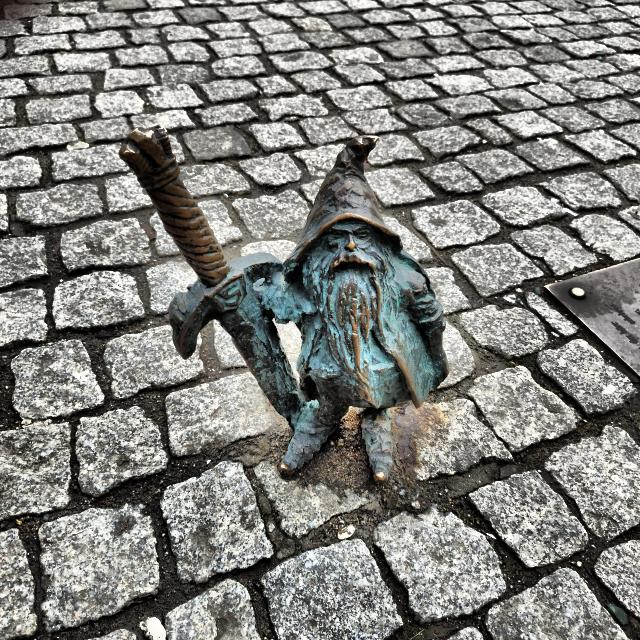Giermek_Grun-Waldek: (118, 126, 450, 481)
